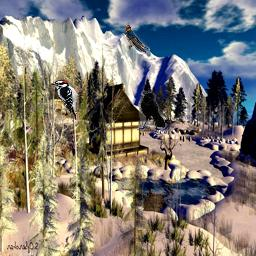Crow: (137, 91, 165, 131)
Swallow: (126, 25, 150, 53)
Woodpecker: (50, 80, 86, 120)
